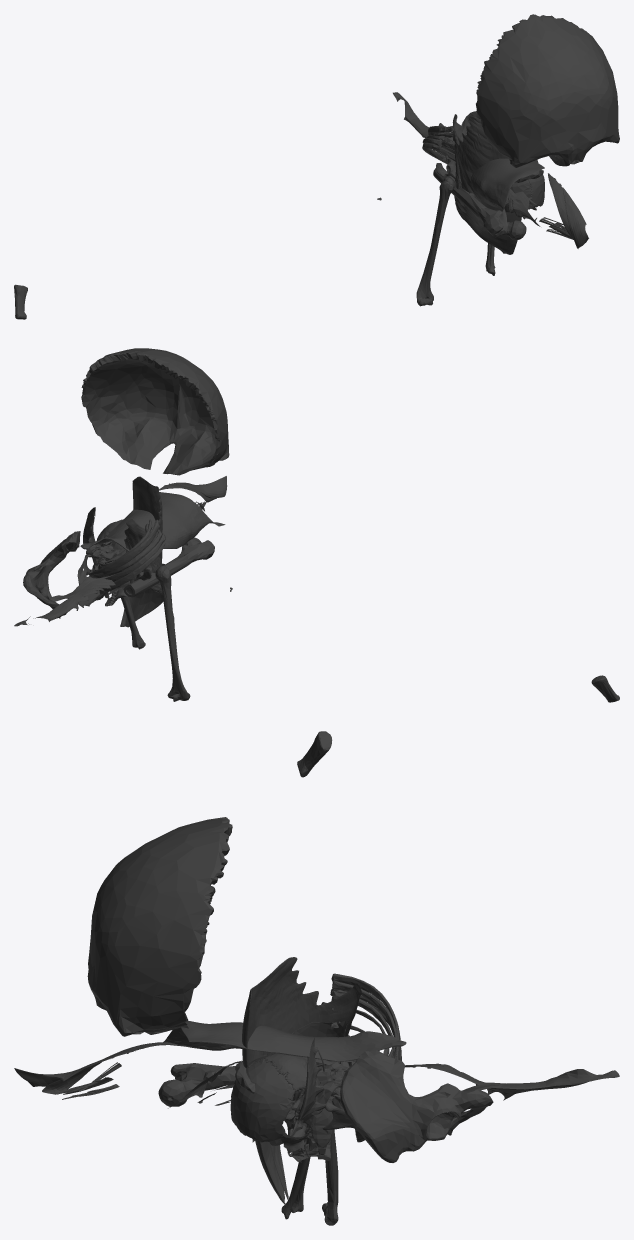
File: sharedassets50.glb
The picture shows the model from 3 angles, top to bottom: view 1: azimuth 30°, elevation 25°; view 2: azimuth 150°, elevation 25°; view 3: azimuth 270°, elevation 25°; orthographic projection. The views are drawn at different scales.
Parts seen in each view (by area): view 1: 0186_Frontal__001097, 0002_External oblique, R__1000152, 0000_Latissimus dorsi, R_male_1000235, 0226_Femur _thigh_, R_male_000930, 0049_Humerus _arm, brachium_, R__000807, 0228_Splenius capitis, R__1000390, 0001_Splenius cervicis, R__1000678, 0004_Iliocostalis lumborum, R__1000657, 0175_Parietal, L__001094; view 2: 0186_Frontal__001097, 0000_Latissimus dorsi, R_male_1000235, 0002_External oblique, R__1000152, 0049_Humerus _arm, brachium_, R__000807, 0226_Femur _thigh_, R_male_000930, 0004_Iliocostalis lumborum, R__1000657, 0015_Ilium, R__001012, 0003_Internal oblique, R__1000221, 0055_Eighth rib _08_, R__002280, 0013_Ischium, R__001010, 0228_Splenius capitis, R__1000390; view 3: 0186_Frontal__001097, 0015_Ilium, R__001012, 0002_External oblique, R__1000152, 0000_Latissimus dorsi, R_male_1000235, 0175_Parietal, L__001094, 0226_Femur _thigh_, R_male_000930, 0004_Iliocostalis lumborum, R__1000657, 0013_Ischium, R__001010, 0003_Internal oblique, R__1000221, 0012_Quadratus lumborum, R__1000345, 0049_Humerus _arm, brachium_, R__000807, 0176_Occipital__001132 (+8 smaller).
Boxes of the visible parts, left/top/right/bottom form: 0186_Frontal__001097: left=476, top=14, right=619, bottom=167; 0002_External oblique, R__1000152: left=452, top=114, right=521, bottom=254; 0000_Latissimus dorsi, R_male_1000235: left=467, top=119, right=544, bottom=224; 0226_Femur _thigh_, R_male_000930: left=433, top=168, right=526, bottom=240; 0049_Humerus _arm, brachium_, R__000807: left=416, top=177, right=454, bottom=306; 0228_Splenius capitis, R__1000390: left=562, top=187, right=588, bottom=248; 0001_Splenius cervicis, R__1000678: left=548, top=173, right=573, bottom=239; 0004_Iliocostalis lumborum, R__1000657: left=393, top=92, right=448, bottom=163; 0175_Parietal, L__001094: left=528, top=174, right=544, bottom=208; 0186_Frontal__001097: left=81, top=348, right=229, bottom=475; 0000_Latissimus dorsi, R_male_1000235: left=80, top=492, right=225, bottom=551; 0002_External oblique, R__1000152: left=120, top=476, right=163, bottom=626; 0049_Humerus _arm, brachium_, R__000807: left=155, top=566, right=190, bottom=701; 0226_Femur _thigh_, R_male_000930: left=123, top=537, right=214, bottom=597; 0004_Iliocostalis lumborum, R__1000657: left=14, top=579, right=115, bottom=626; 0015_Ilium, R__001012: left=35, top=531, right=80, bottom=587; 0003_Internal oblique, R__1000221: left=107, top=539, right=163, bottom=627; 0055_Eighth rib _08_, R__002280: left=94, top=519, right=159, bottom=578; 0013_Ischium, R__001010: left=23, top=564, right=49, bottom=603; 0228_Splenius capitis, R__1000390: left=171, top=476, right=227, bottom=498; 0186_Frontal__001097: left=87, top=817, right=232, bottom=1036; 0015_Ilium, R__001012: left=340, top=1050, right=435, bottom=1162; 0002_External oblique, R__1000152: left=242, top=957, right=361, bottom=1206; 0000_Latissimus dorsi, R_male_1000235: left=140, top=1021, right=406, bottom=1061; 0175_Parietal, L__001094: left=230, top=1059, right=295, bottom=1145; 0226_Femur _thigh_, R_male_000930: left=158, top=1063, right=235, bottom=1106; 0004_Iliocostalis lumborum, R__1000657: left=404, top=1063, right=619, bottom=1100; 0013_Ischium, R__001010: left=429, top=1083, right=493, bottom=1118; 0003_Internal oblique, R__1000221: left=267, top=1018, right=349, bottom=1199; 0012_Quadratus lumborum, R__1000345: left=297, top=1037, right=325, bottom=1126; 0049_Humerus _arm, brachium_, R__000807: left=322, top=1114, right=338, bottom=1225; 0176_Occipital__001132: left=264, top=1053, right=319, bottom=1091.
Bounding box in the file's own units: 0.7395 × 0.3774 × 0.4592.
Materials: 1 (1 with a texture image).
